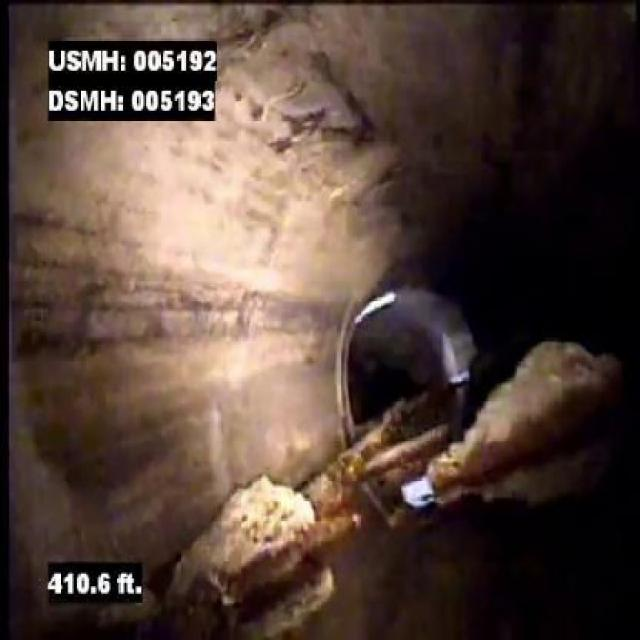Crack: (221, 6, 317, 56)
Debris: (428, 334, 628, 492), (162, 462, 329, 620)
